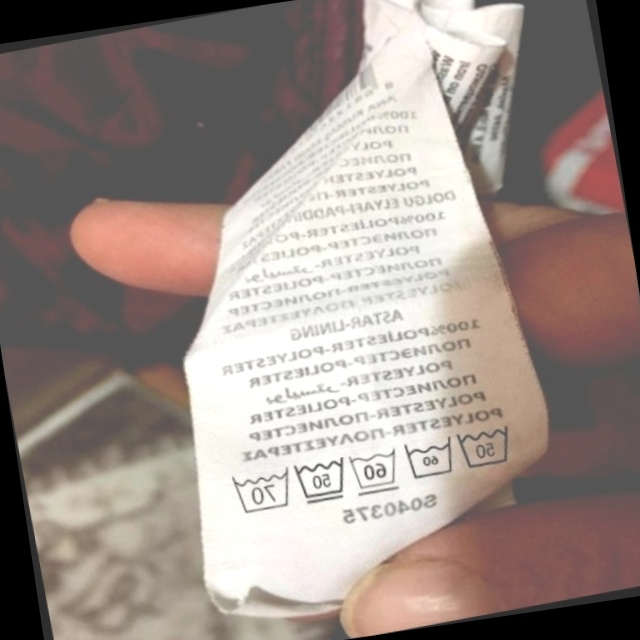50C: (448, 413, 523, 478), (286, 449, 355, 512)
60C: (341, 440, 406, 501), (396, 429, 461, 488)
70C: (222, 461, 297, 522)
